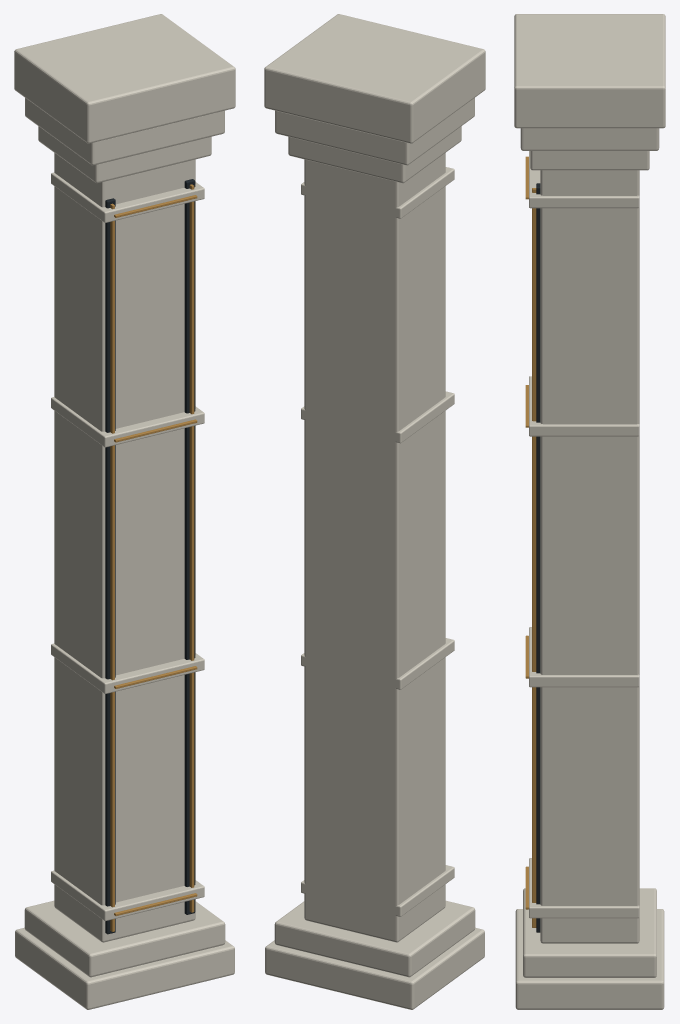
Rendered from SM_Aurelion_KIT_Pier_1x7.fbx.
3 views of the same model, side by side, from view 1: azimuth 30°, elevation 25°; view 2: azimuth 150°, elevation 25°; view 3: azimuth 270°, elevation 25° (orthographic).
Visible parts, largest first — view 1: SM_Aurelion_KIT_Pier_1x7; view 2: SM_Aurelion_KIT_Pier_1x7; view 3: SM_Aurelion_KIT_Pier_1x7.
Boxes of the visible parts, x1,y1,x2,y2 form: SM_Aurelion_KIT_Pier_1x7: (14,14,235,1009); SM_Aurelion_KIT_Pier_1x7: (264,14,485,1009); SM_Aurelion_KIT_Pier_1x7: (514,14,665,1009).
Size of the model in its own units: 120 by 104 by 700.
